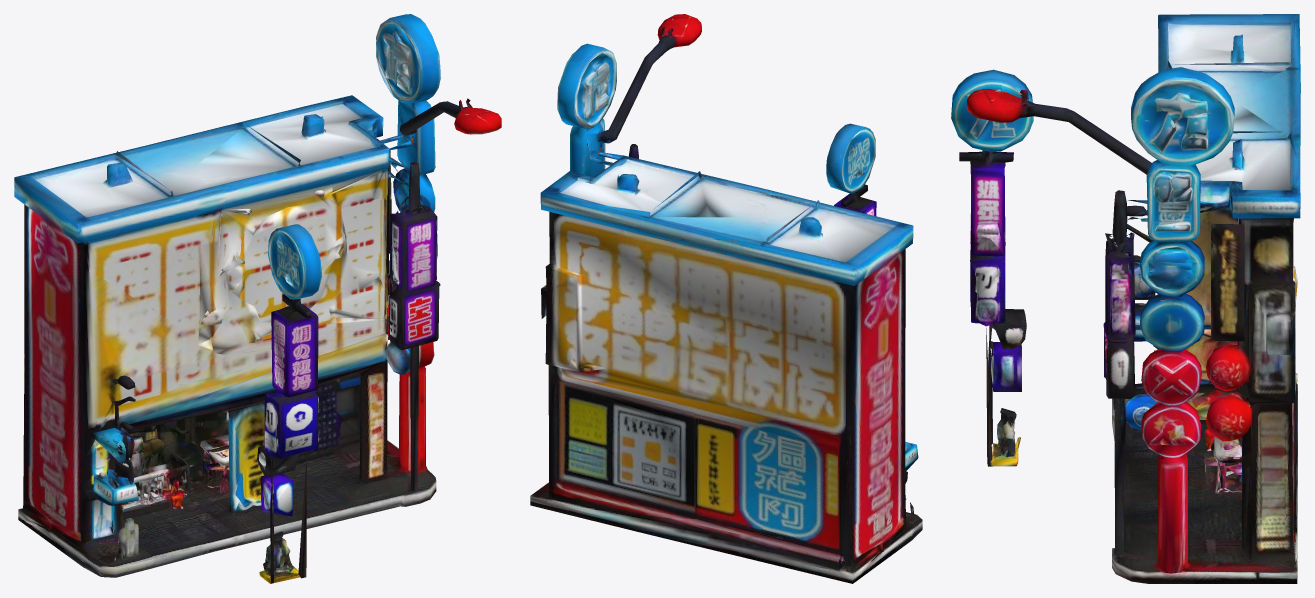
The model's file is neon.glb.
3 renders of one model, left to right at view 1: azimuth 30°, elevation 25°; view 2: azimuth 150°, elevation 25°; view 3: azimuth 270°, elevation 25°, orthographic. The views are drawn at different scales.
Bounding box in the file's own units: 1.55 × 1.91 × 1.19.
1 material, 1 textured.
